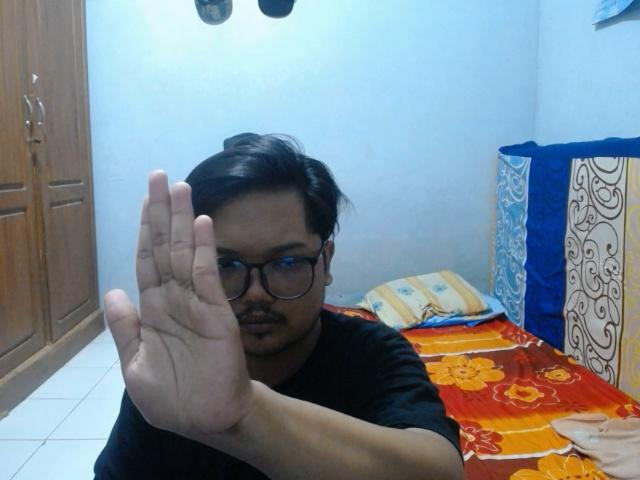Release: (102, 163, 252, 440)
